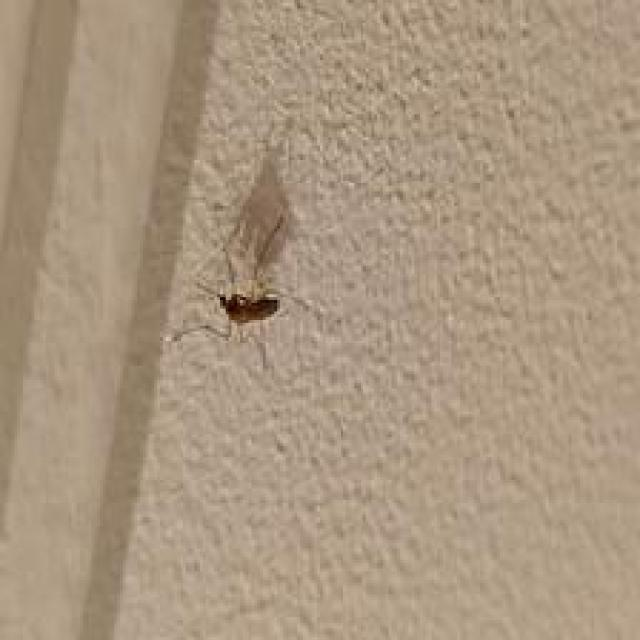Culex: (163, 144, 326, 367)
